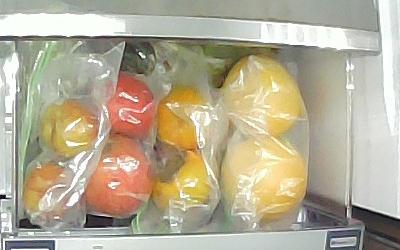apple_vinyl: (80, 135, 152, 218), (103, 73, 154, 140)
grapefruit_vinyl: (222, 138, 308, 223), (223, 55, 301, 139)
persimmon_vinyl: (150, 148, 210, 211), (156, 83, 206, 150)
prune_vinyl: (37, 99, 100, 157), (25, 161, 74, 215)
